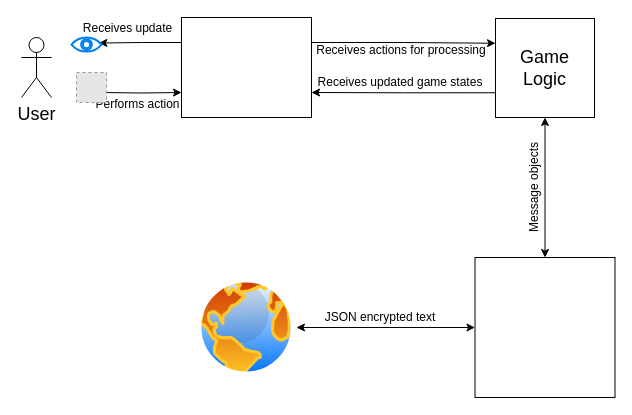
Image size: 632x415. Some labels were removed from this diagram. Grey dashed boxes stand in for pictures. Each missing label, with the box of its shape:
Communication Client: (474, 256, 615, 398)
Screen: (180, 16, 312, 118)
